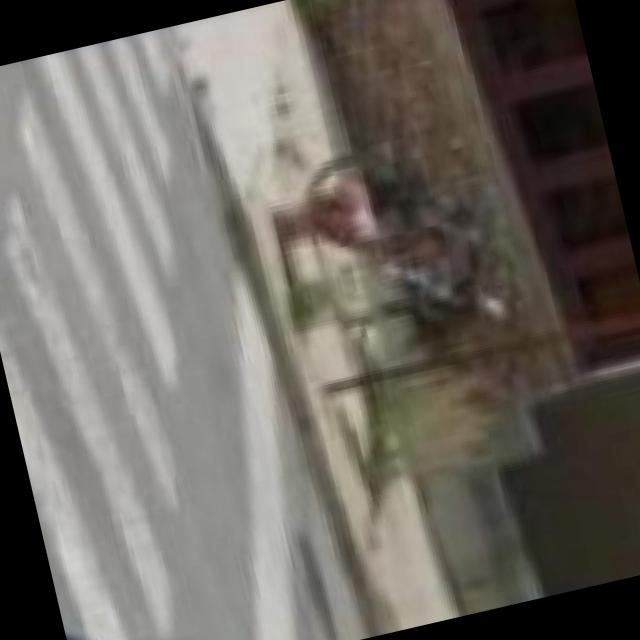zebra: (0, 32, 180, 640)
